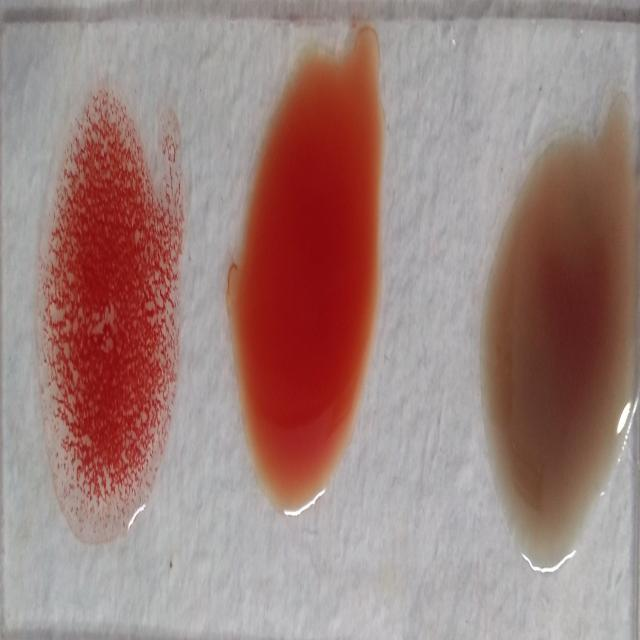D: (42, 75, 176, 539)
